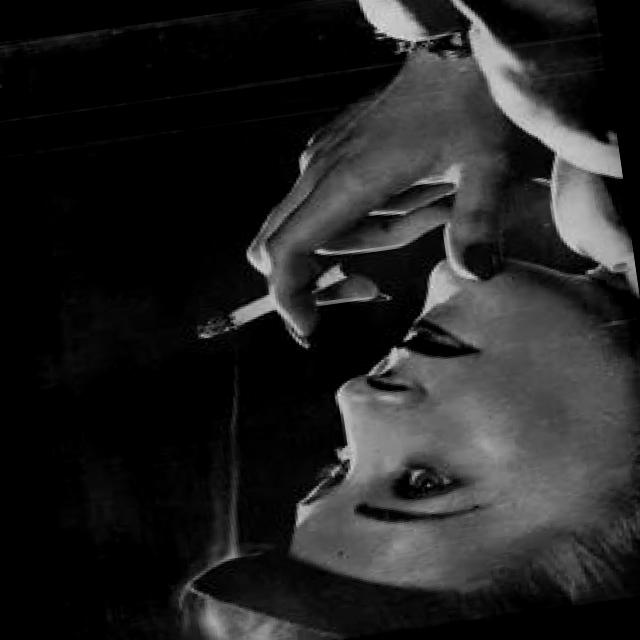cigarette: (185, 259, 359, 346)
